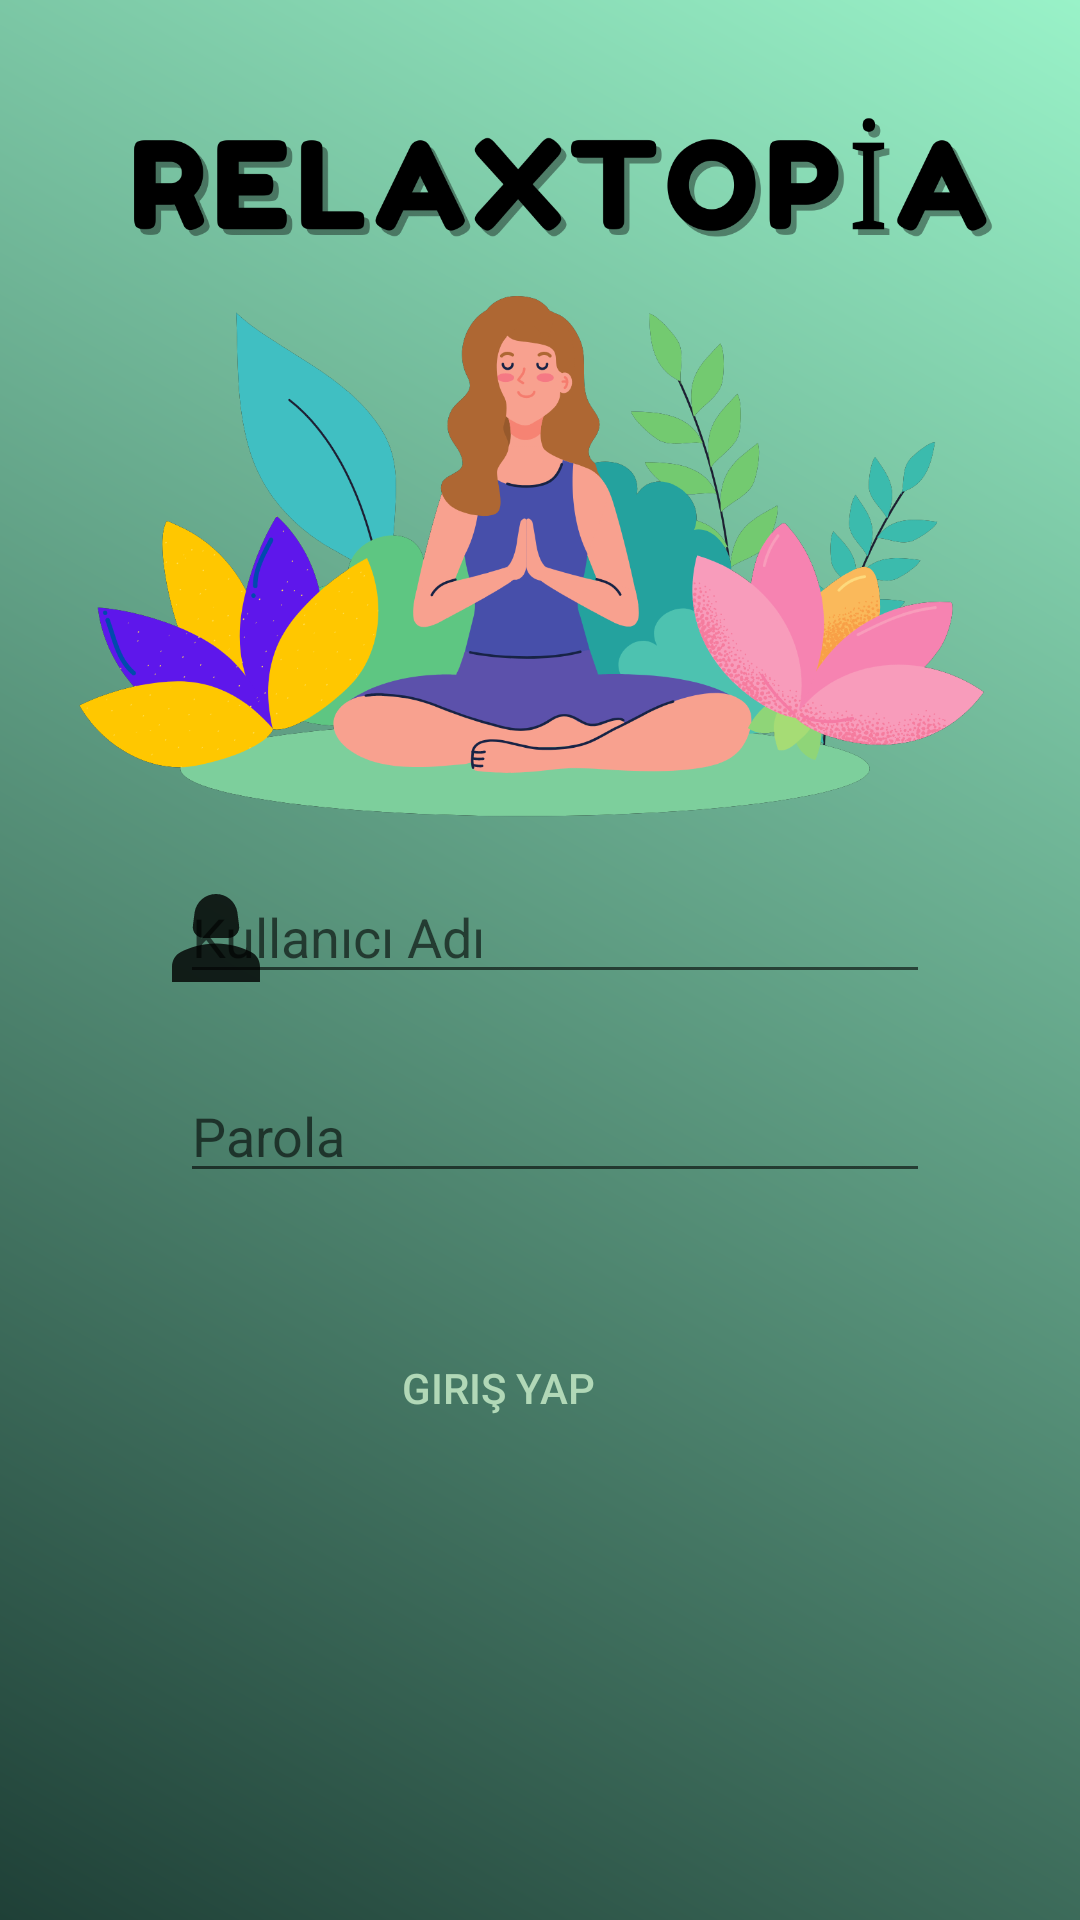

Where icons sit on this 1080*1920 app screen, as Rect(x1, y1, x2, y2):
person: Rect(172, 894, 282, 982)
